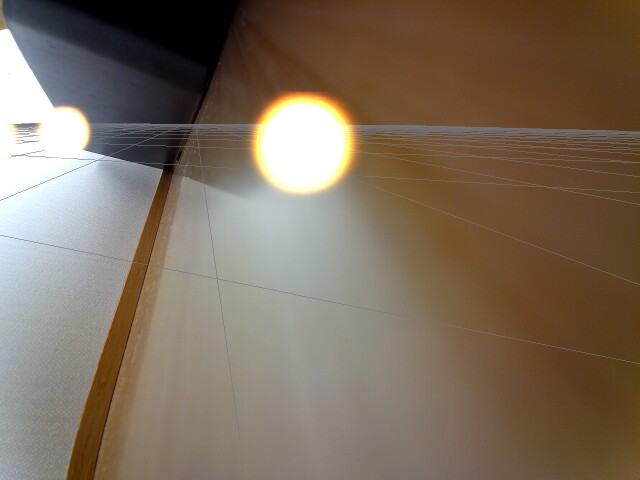firebig: (236, 84, 365, 199)
